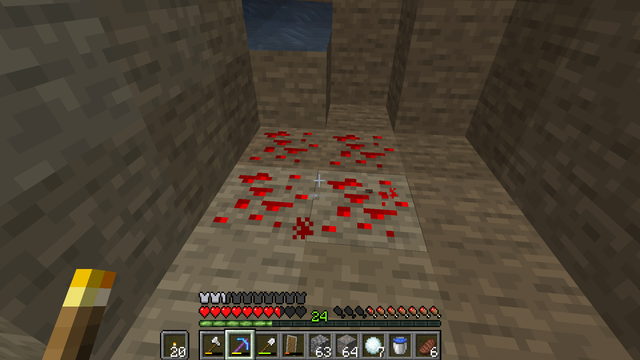redstone: (204, 124, 426, 253)
